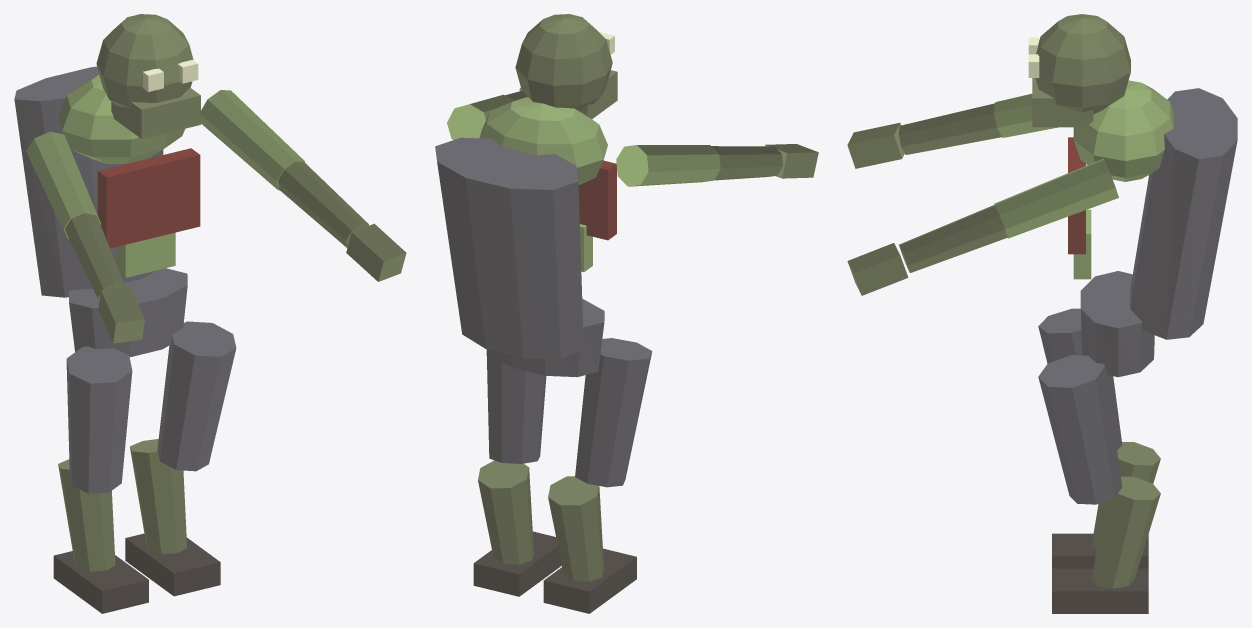
Rendered from zombie.glb.
3 views of the same model, side by side, from view 1: azimuth 30°, elevation 25°; view 2: azimuth 150°, elevation 25°; view 3: azimuth 270°, elevation 25° (orthographic). The views are drawn at different scales.
Parts seen in each view (by area): view 1: zombie; view 2: zombie; view 3: zombie.
Boxes of the visible parts, x1,y1,x2,y2 form: zombie: (14, 14, 406, 613); zombie: (435, 14, 818, 613); zombie: (847, 14, 1237, 613).
Bounding box in the file's own units: 0.9325 × 1.75 × 1.09.
